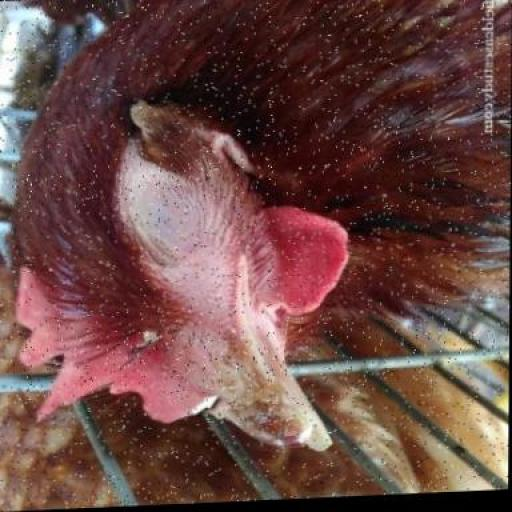disease: (203, 351, 343, 460), (119, 136, 226, 265)
